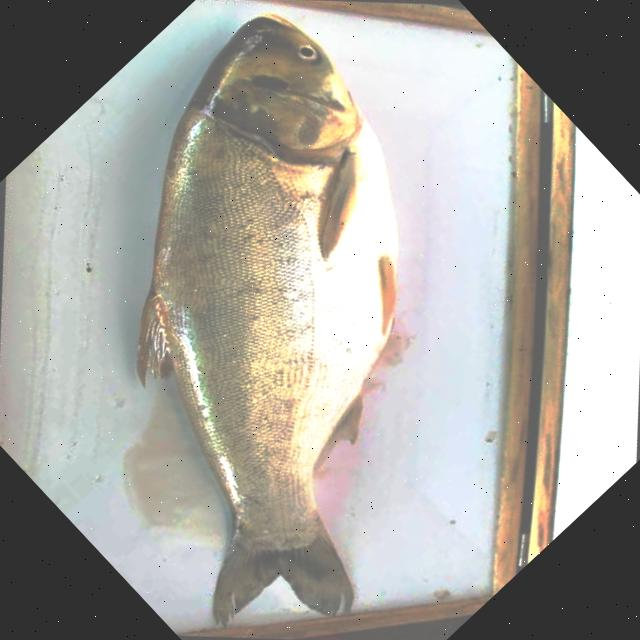Healthy Fish: (137, 17, 395, 625)
